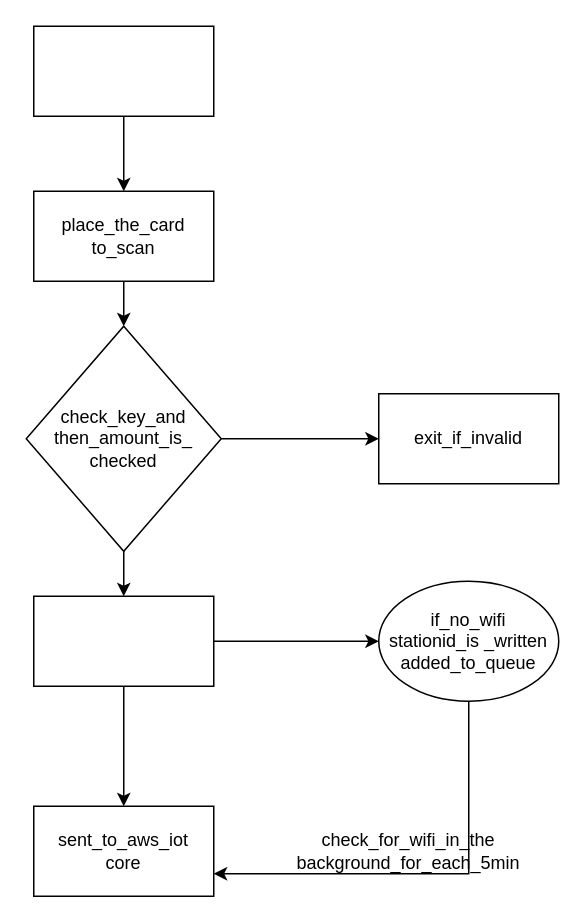
Some shapes in this 585 by 923 pixel diagram are drawn without their labels. Here are the shapes that lost their labels. From the top down, the centre of each, then its label:
At (123,70): "passenger_enters".
At (123,640): "read_amount_and stationid_and_time is_written".
